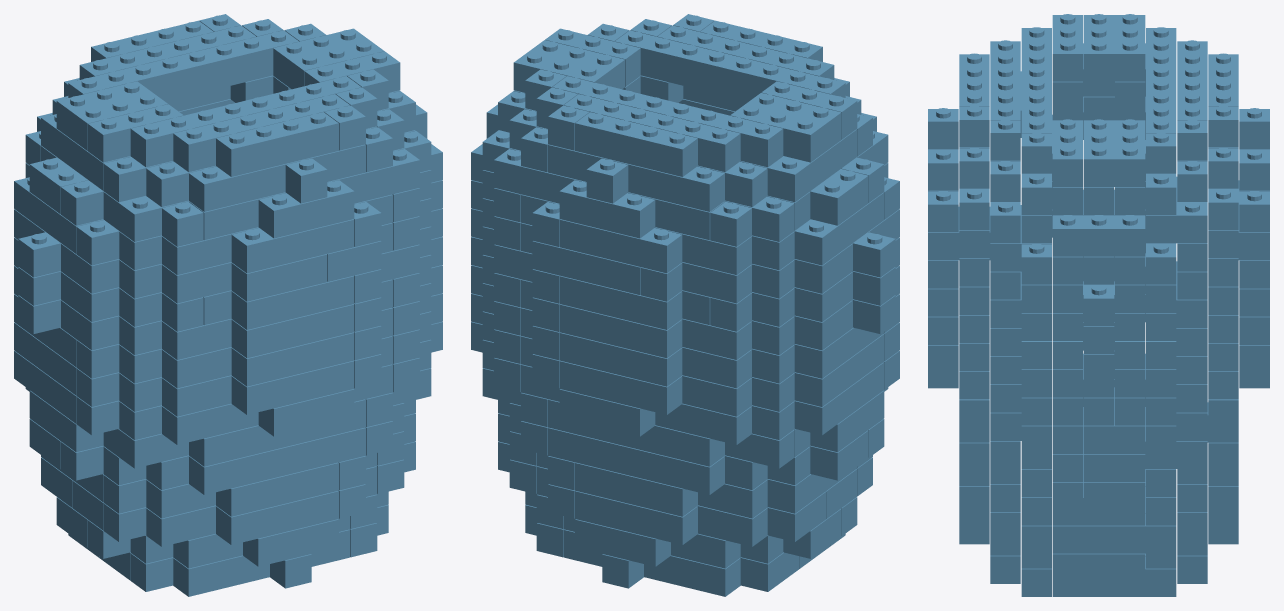
Rendered from 097_bowl_L2.glb.
The picture shows the model from 3 angles, left to right: view 1: azimuth 30°, elevation 25°; view 2: azimuth 150°, elevation 25°; view 3: azimuth 270°, elevation 25°; orthographic projection.
Size of the model in its own units: 14.98 by 16.13 by 10.98.
